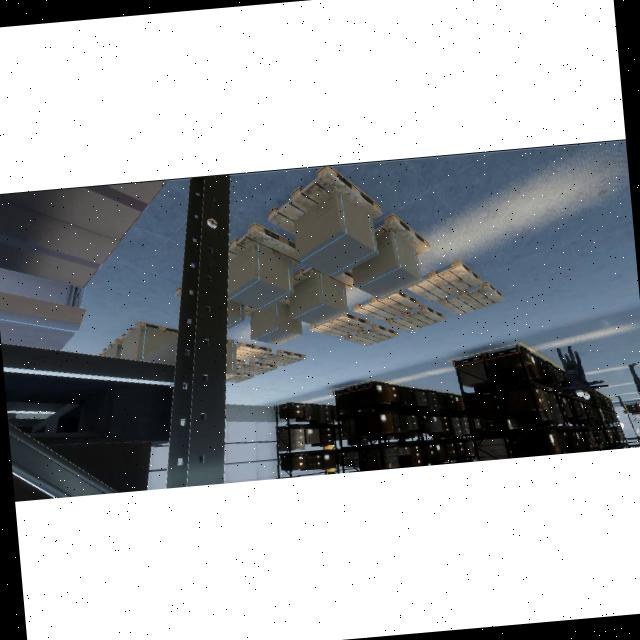wooden_pallet: (268, 166, 383, 238), (227, 220, 302, 269), (407, 260, 482, 302), (373, 212, 432, 256), (438, 281, 506, 316), (352, 290, 420, 321), (386, 304, 445, 333), (309, 312, 370, 338), (344, 324, 399, 347), (258, 349, 305, 366), (235, 342, 273, 362), (236, 361, 278, 376), (225, 372, 254, 383), (236, 360, 245, 367)
